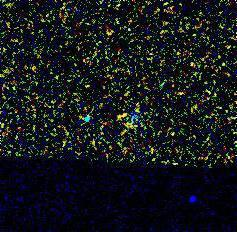star: (105, 99, 135, 129)
